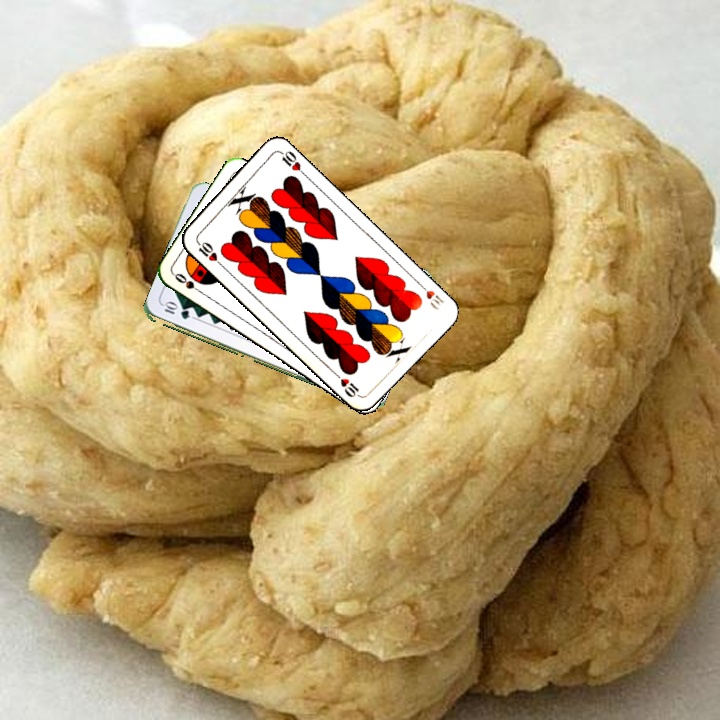G10: (159, 300, 192, 322)
H10: (414, 278, 447, 312), (192, 236, 225, 269)
SO: (170, 269, 207, 297)
